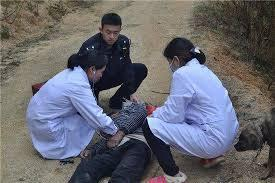Fall-Detected: (24, 90, 161, 181)
